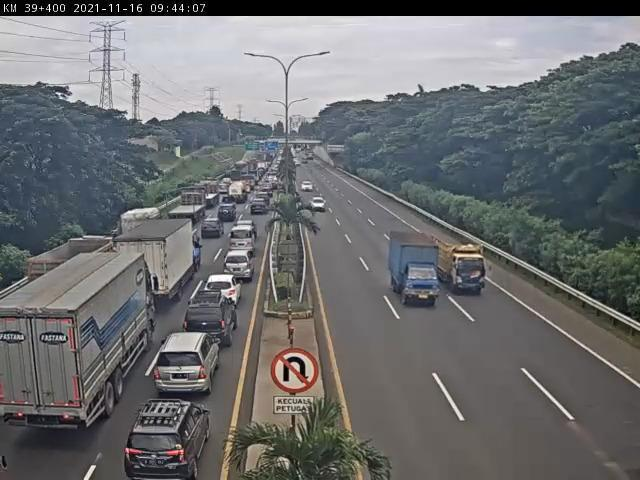car: (118, 390, 221, 480), (148, 330, 232, 397), (188, 292, 240, 340), (203, 266, 241, 308), (227, 221, 272, 254), (220, 249, 263, 282), (200, 214, 227, 246), (307, 197, 339, 219), (219, 199, 244, 223), (252, 196, 275, 220), (216, 172, 235, 196), (301, 176, 318, 195)
truck: (1, 247, 153, 439), (109, 216, 202, 298), (29, 237, 119, 321), (388, 231, 442, 311), (435, 235, 488, 300), (110, 206, 165, 257), (172, 188, 211, 224), (194, 176, 224, 211), (227, 181, 248, 203)
